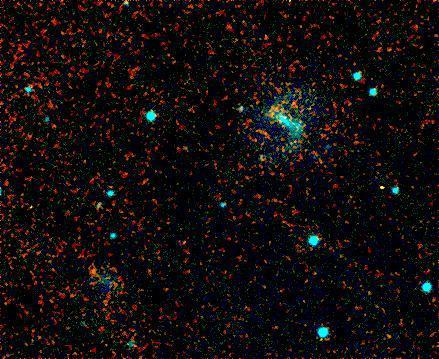star: (357, 175, 387, 205)
